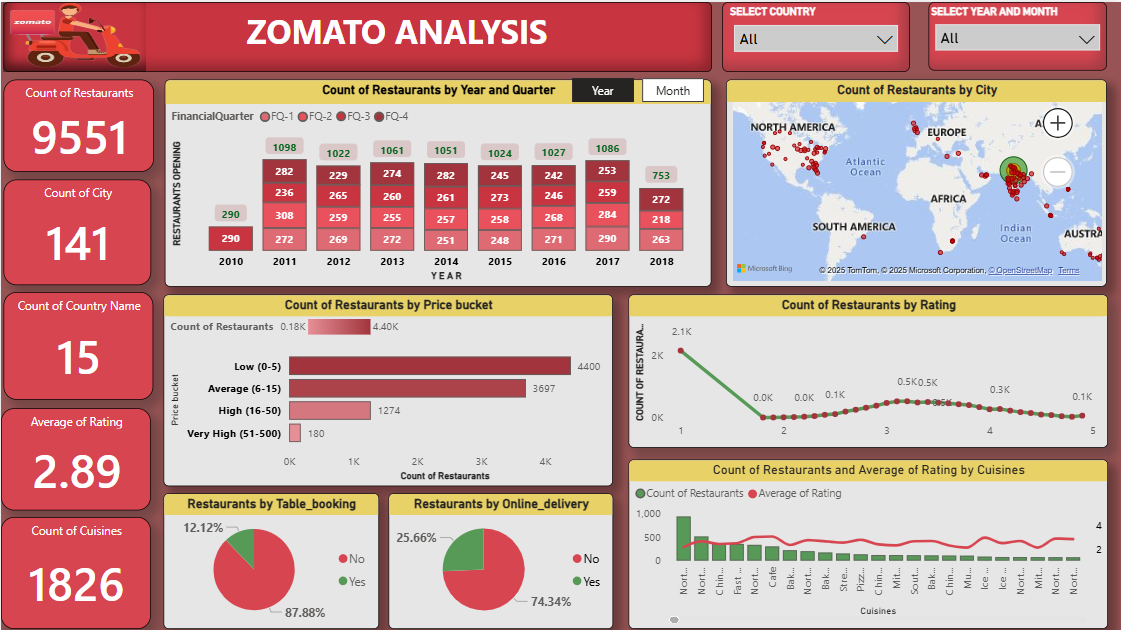

This screenshot's page, from the dashboard's own definition file:
{"tool":"powerbi","page":{"name":"Page 2","canvas":[1280,720],"ordinal":1},"visuals":[{"type":"textbox","box":[2.4,0,809.5,79.6],"z":0},{"type":"card","title":"Count of Restaurants","fields":{"Values":["Count(Main.RestaurantID)"]},"box":[2.5,88.3,171.7,105.8],"z":1000},{"type":"card","title":"Count of City","fields":{"Values":["Count(Main.City)"]},"box":[2.4,202.6,168.8,120.6],"z":2000},{"type":"card","title":"Count of Country Name","fields":{"Values":["Count(Main.country name )"]},"box":[2.4,331.7,171.3,123],"z":3000},{"type":"card","title":"Average of Rating","fields":{"Values":["Avg(Main.Rating)"]},"box":[0,464.3,171.3,117],"z":4000},{"type":"card","title":"Count of Cuisines","fields":{"Values":["Count(Main.Cuisines)"]},"box":[0,588.5,171.3,127.8],"z":5000},{"type":"slicer","title":"SELECT COUNTRY","fields":{"Values":["Main.country name "]},"box":[824,0,214.7,79.6],"z":6000},{"type":"map","title":"Count of Restaurants by City","fields":{"Category":["Main.City"],"Size":["CountNonNull(Main.RestaurantID)"]},"box":[828.8,88.1,435.5,236.5],"z":7000},{"type":"columnChart","title":"Count of Restaurants by Year and Quarter","fields":{"Category":["Calender_table.Year","Calender_table.Month Name"],"Y":["CountNonNull(Main.RestaurantID)"],"Series":["Calender_table.FinancialQuarter"]},"box":[187,88.1,624.9,236.5],"z":8000},{"type":"slicer","title":"SELECT YEAR AND MONTH","fields":{"Values":["Calender_table.Year","Calender_table.Month Name"]},"box":[1060.5,0,203.9,78.4],"z":9000},{"type":"lineChart","title":"Count of Restaurants by Rating","fields":{"Y":["Count(Main.RestaurantID)"],"Category":["Main.Rating"]},"box":[716.5,333.9,548.2,175.3],"z":10000},{"type":"barChart","fields":{"Y":["CountNonNull(Main.RestaurantID)"],"Category":["Main.Price bucket"]},"box":[185.7,334.1,513.8,219.5],"z":11000},{"type":"pieChart","title":"Restaurants by Table_booking","fields":{"Category":["Main.Has_Table_booking"],"Y":["CountNonNull(Main.RestaurantID)"]},"box":[185.7,560.8,246,155.6],"z":12000},{"type":"pieChart","title":"Restaurants by Online_delivery","fields":{"Category":["Main.Has_Online_delivery"],"Y":["CountNonNull(Main.RestaurantID)"]},"box":[442.6,560.8,256.9,155.6],"z":13000},{"type":"lineStackedColumnComboChart","fields":{"Category":["Main.Cuisines"],"Y":["Count(Main.RestaurantID)"],"Y2":["Avg(Main.Rating)"]},"box":[716.5,523.1,548.2,193.4],"z":14000},{"type":"image","box":[2.5,0,162.5,80],"z":15000},{"type":"bookmarkNavigator","box":[652.5,87.5,151.2,27.5],"z":16000}]}

Visuals, with their boxes in screenshot pixels (x1, y1, x2, y2), scaled from the page's 1280x720 canvas onto the 1121x630 screenshot:
textbox: BBox(2, 0, 711, 70)
"Count of Restaurants" card: BBox(2, 77, 153, 170)
"Count of City" card: BBox(2, 177, 150, 283)
"Count of Country Name" card: BBox(2, 290, 152, 398)
"Average of Rating" card: BBox(0, 406, 150, 509)
"Count of Cuisines" card: BBox(0, 515, 150, 627)
"SELECT COUNTRY" slicer: BBox(722, 0, 910, 70)
"Count of Restaurants by City" map: BBox(726, 77, 1107, 284)
"Count of Restaurants by Year and Quarter" columnChart: BBox(164, 77, 711, 284)
"SELECT YEAR AND MONTH" slicer: BBox(929, 0, 1107, 69)
"Count of Restaurants by Rating" lineChart: BBox(627, 292, 1108, 446)
barChart - CountNonNull(Main.RestaurantID) x Main.Price bucket: BBox(163, 292, 613, 484)
"Restaurants by Table_booking" pieChart: BBox(163, 491, 378, 627)
"Restaurants by Online_delivery" pieChart: BBox(388, 491, 613, 627)
lineStackedColumnComboChart - Main.Cuisines x Count(Main.RestaurantID): BBox(627, 458, 1108, 627)
image: BBox(2, 0, 145, 70)
bookmarkNavigator: BBox(571, 77, 704, 101)
